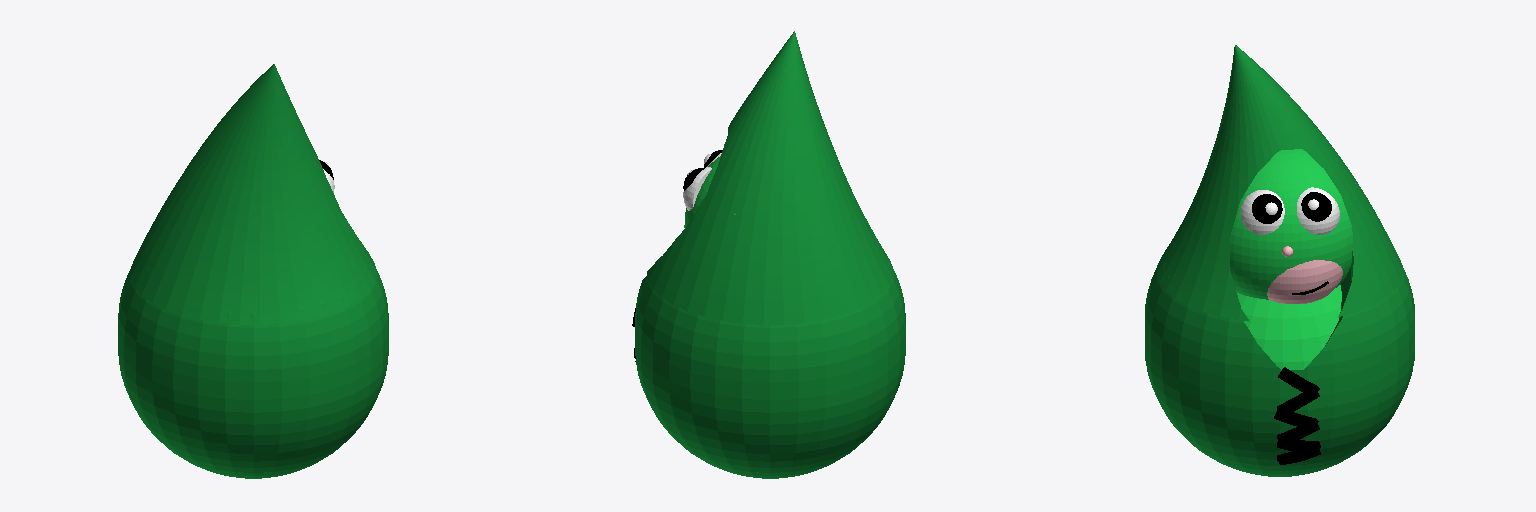
3 views of the same model, side by side, from view 1: azimuth 30°, elevation 25°; view 2: azimuth 150°, elevation 25°; view 3: azimuth 270°, elevation 25° (orthographic).
Parts seen in each view (by area): view 1: Torso; view 2: Torso; view 3: Torso.
Boxes of the visible parts, <box> form: Torso: <box>118,64,388,478</box>; Torso: <box>632,31,905,478</box>; Torso: <box>1145,45,1414,476</box>.
Size of the model in its own units: 9.8 by 16.3 by 9.55.
5 materials, 5 textured.